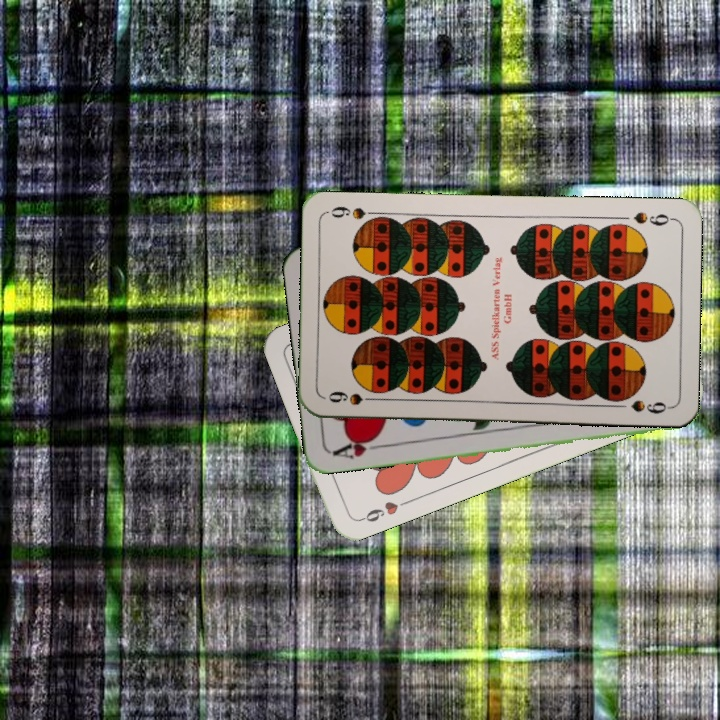H9: (354, 496, 411, 525)
HA: (329, 432, 388, 461)
S9: (324, 387, 382, 408), (630, 208, 676, 229)
